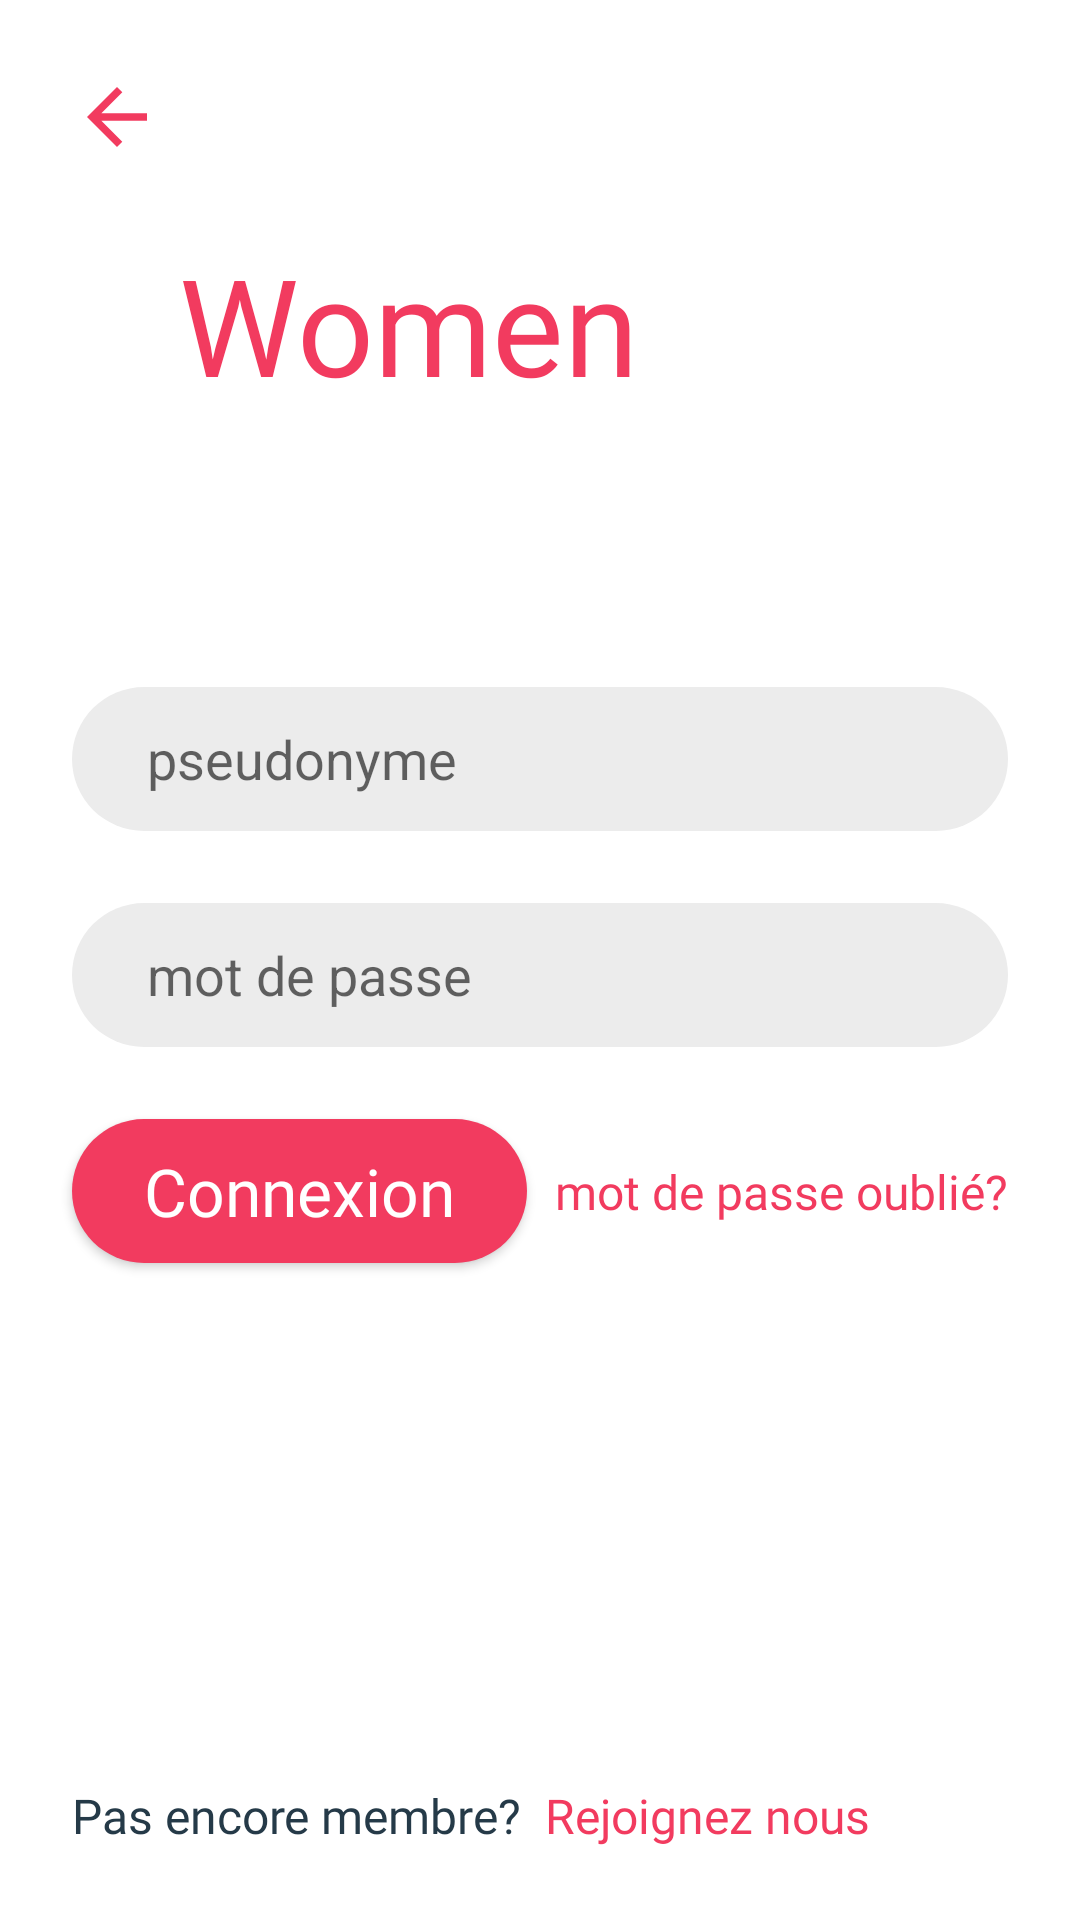

Screen size 1080 × 1920. Icon name, then its box in pixels as detection(x1, y1, x2, y2):
back: detection(87, 87, 147, 147)
